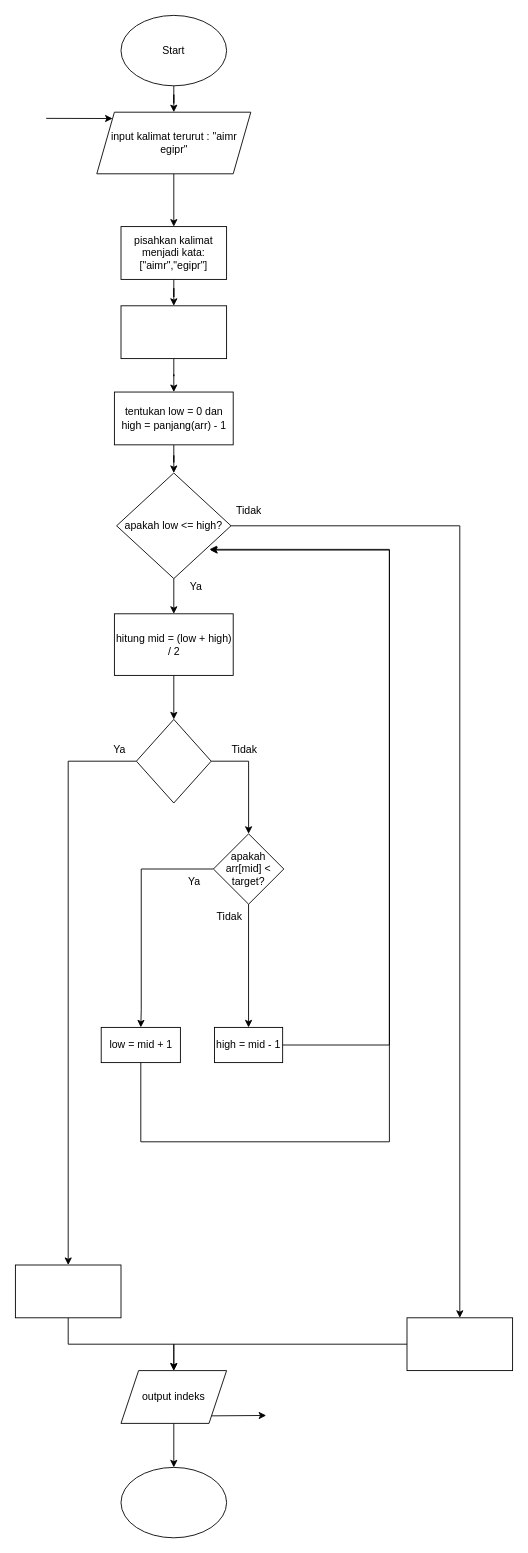
Image size: 528x1553. Some labels were removed from this diagram. The box of each missing label's shape, as (x1, y1, x2, y2) in pixels:
apakah arr[mid] == target?: (136, 719, 211, 803)
end: (120, 1467, 227, 1538)
kembalikan -1 (tidak ditemukan): (406, 1317, 513, 1371)
kembalikan mid: (15, 1264, 121, 1318)
masukkan kata yang dicari "egipr": (120, 305, 227, 359)
